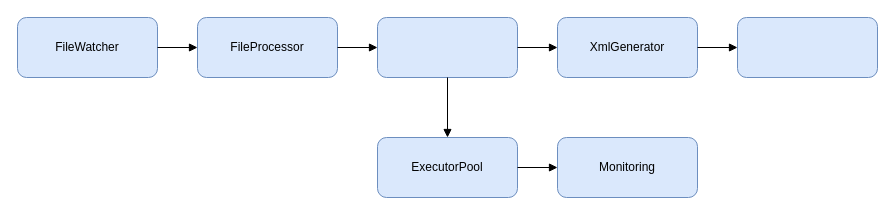
This 895x215 diagram has some shape labels left out. The box of each missing label's shape, as (x1, y1, x2, y2) in pixels:
Database: (736, 16, 878, 78)
DealProcessor: (376, 16, 518, 78)
